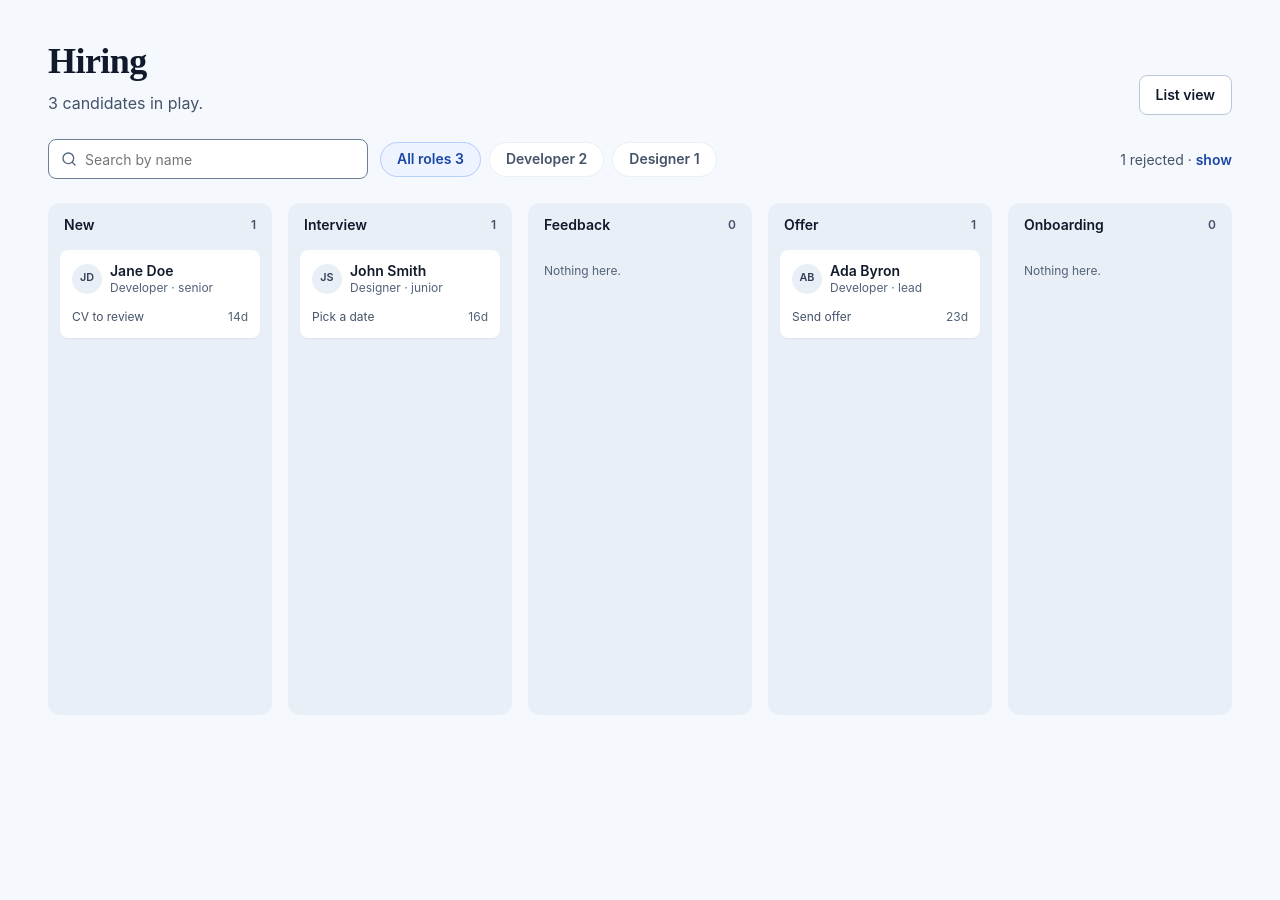
Test: CandidatesListComponent › should switch to a table when list view is chosen
Click the button "List view" at (1185, 95), box top-left (1138, 75), bottom-right (1232, 115)
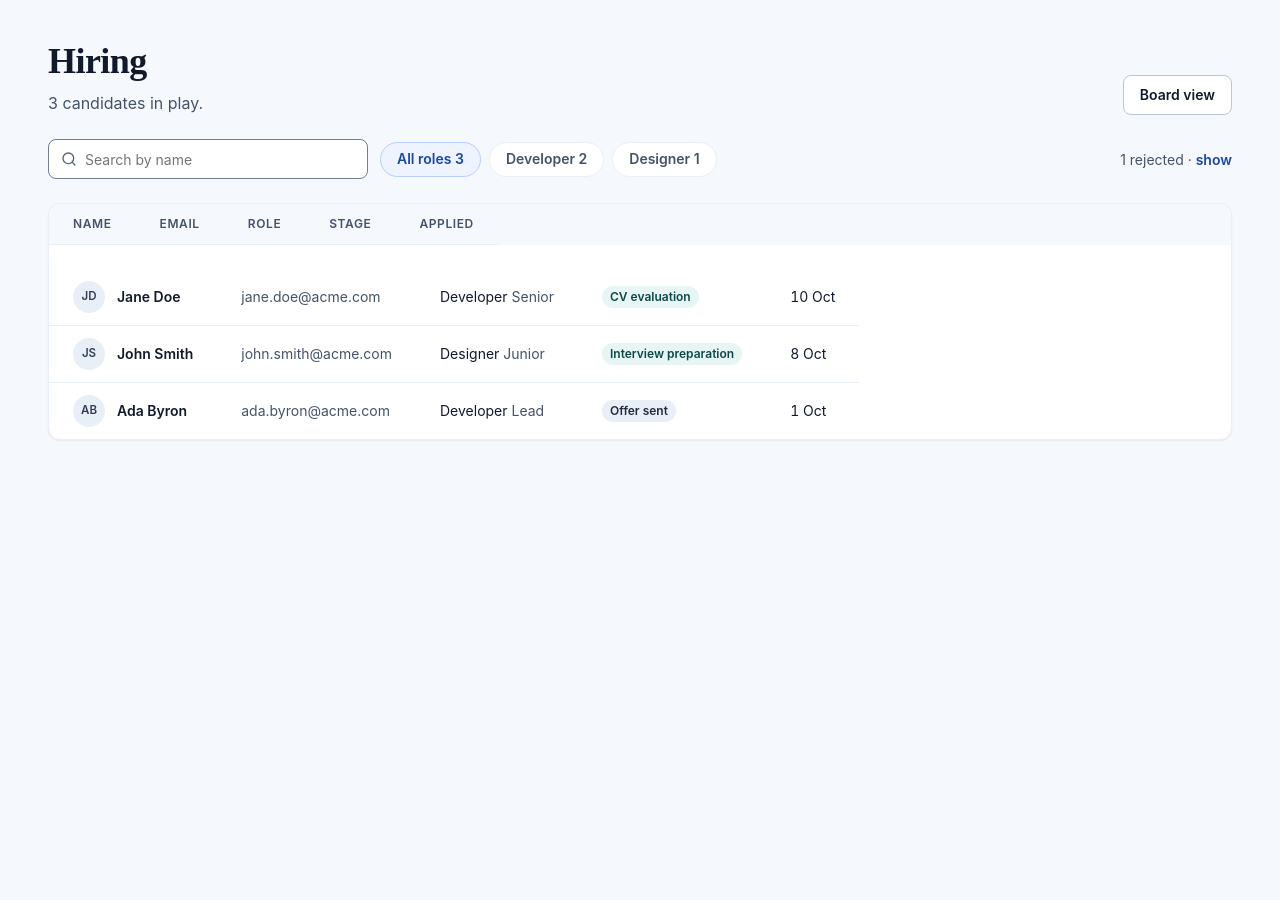
Check: the element with class "board" is gone
Check: the row that starts with "Jane Doe" is shown, box top-left (117, 286), bottom-right (180, 307)
